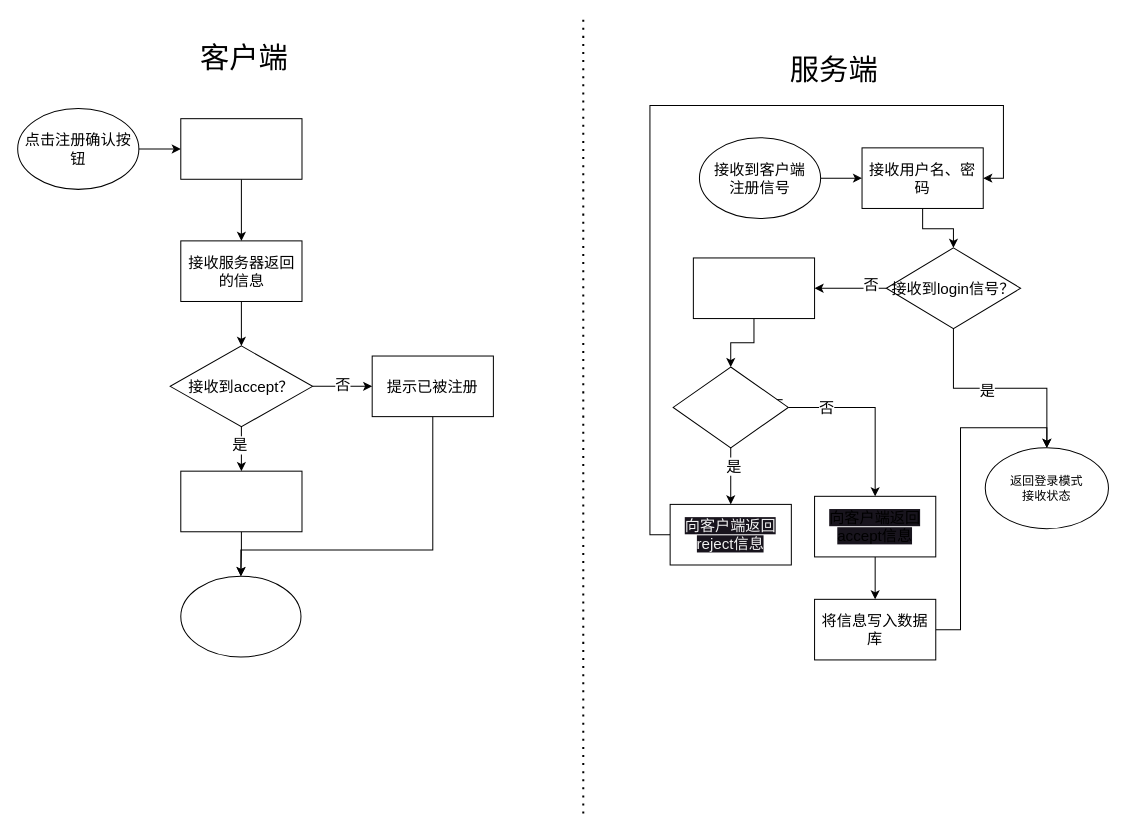
Some shapes in this 1126 by 832 pixel diagram are drawn without their labels. The box of each missing label's shape, as (x1, y1, x2, y2) in pixels:
与数据库中用户名进行比较: (692, 257, 815, 319)
关闭注册界面: (180, 470, 302, 532)
向服务器发送用户名密码: (180, 118, 302, 179)
用户已存在？: (672, 366, 788, 448)
返回: (180, 575, 301, 657)
